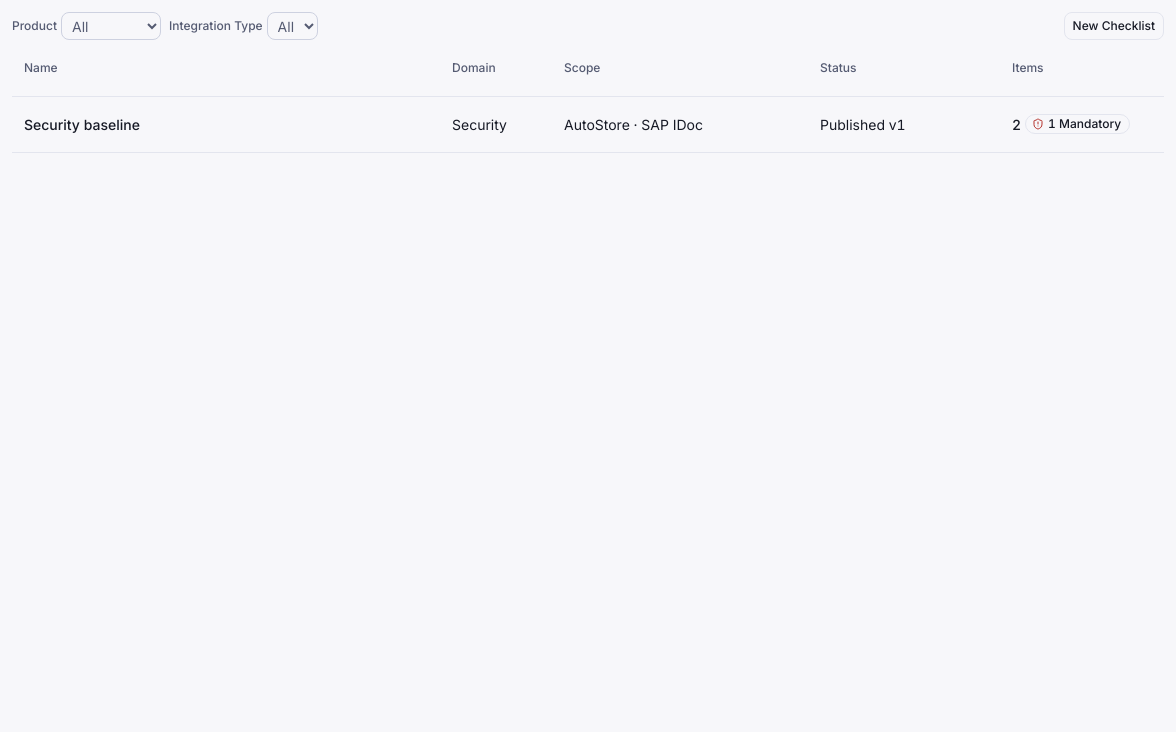
Test case: ChecklistsTab › lets an author press c, name a Checklist and create it
The width and height of the screenshot is (1176, 732).
Type keys "c"
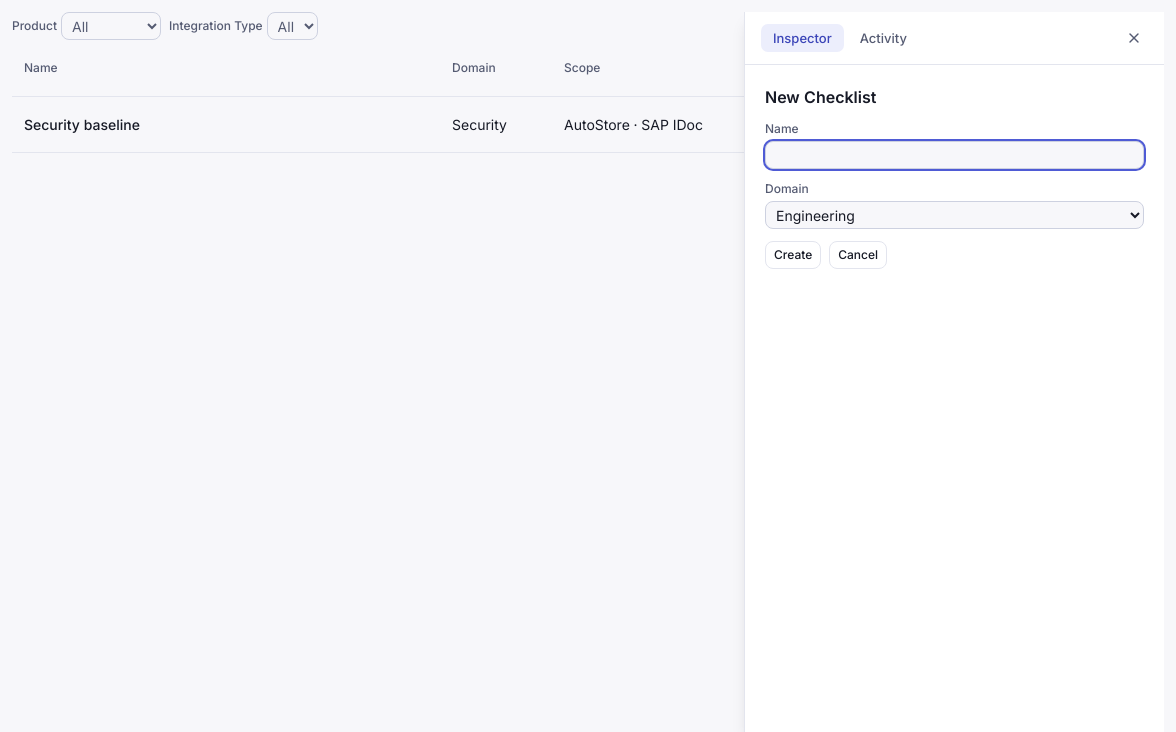
Type "Delivery risks" into the field labelled "Name". click: (954, 155)
box: [765,141,1144,169]
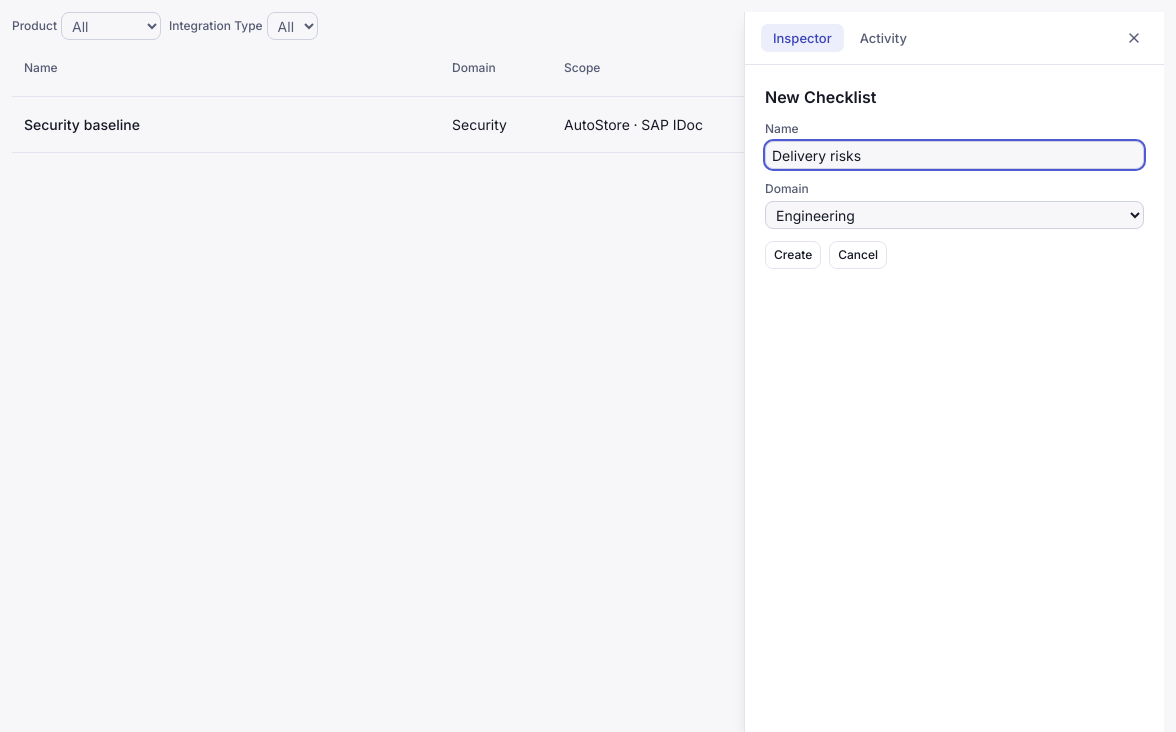
Select "Delivery" in the dropdown labelled "Domain". click: (954, 215)
box: [765,201,1144,229]
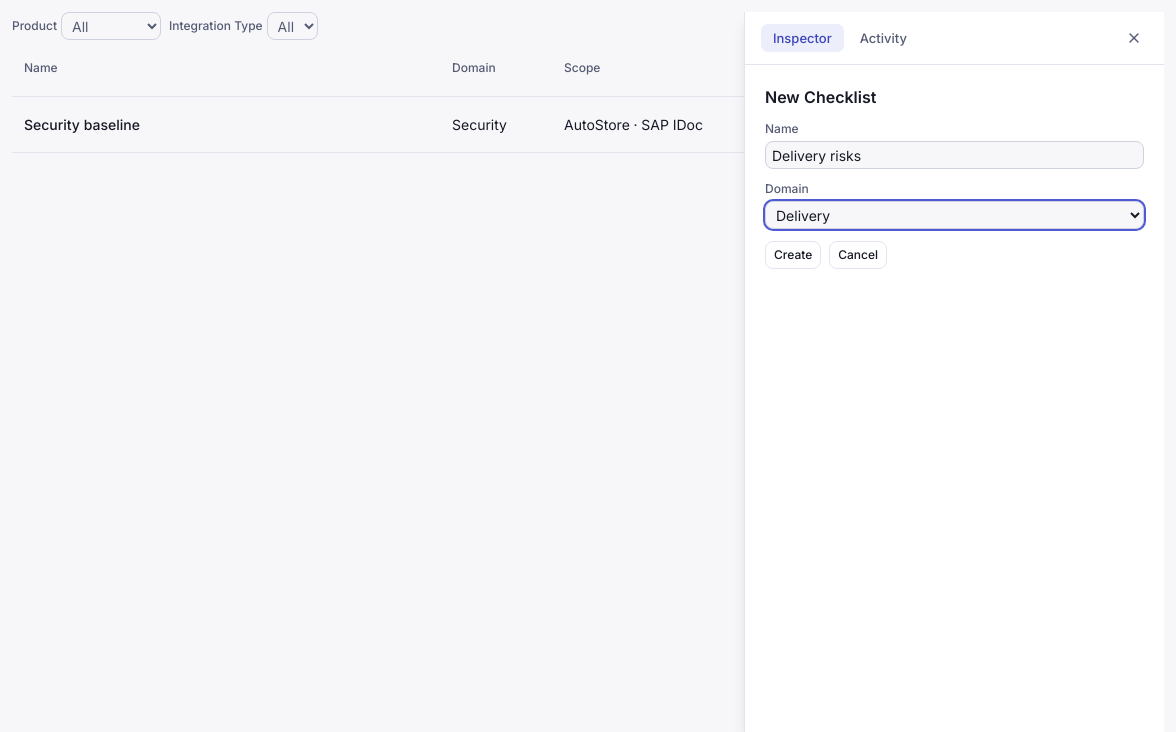
Click the button "Create". click: click(793, 255)
box: [765,241,821,269]
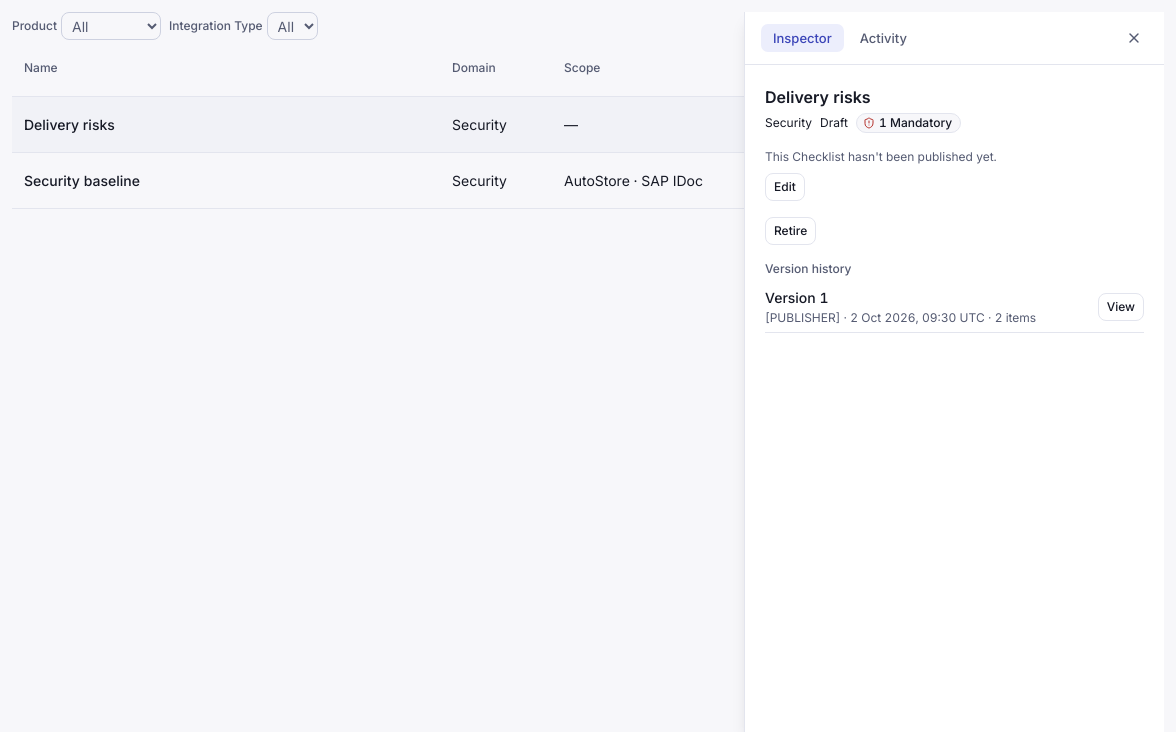
expect the button "Delivery risks" is shown: met, box [24,114,432,135]
